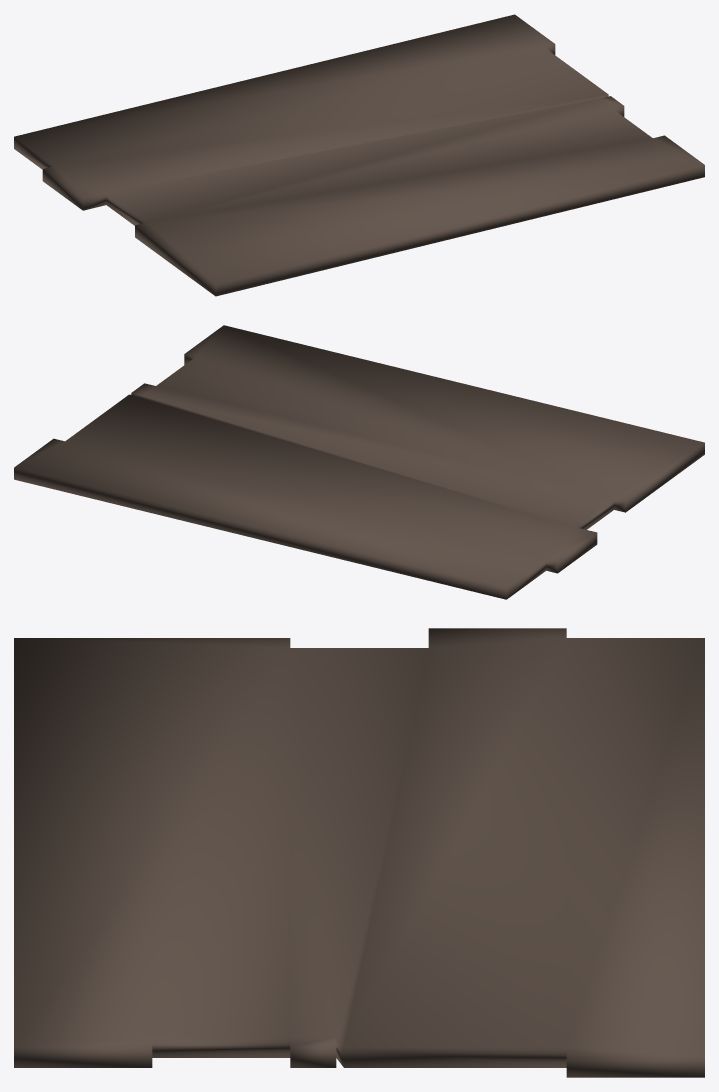
3 renders of one model, top to bottom at view 1: azimuth 30°, elevation 25°; view 2: azimuth 150°, elevation 25°; view 3: azimuth 270°, elevation 25°, orthographic. The views are drawn at different scales.
Visible parts, largest first — view 1: woodenFloor_0; view 2: woodenFloor_0; view 3: woodenFloor_0.
Boxes of the visible parts, box(x1,y1,x2,y2) form: woodenFloor_0: box(14, 14, 704, 296); woodenFloor_0: box(14, 325, 704, 599); woodenFloor_0: box(14, 628, 704, 1077).
Size of the model in its own units: 3.74 by 0.085 by 2.55.
